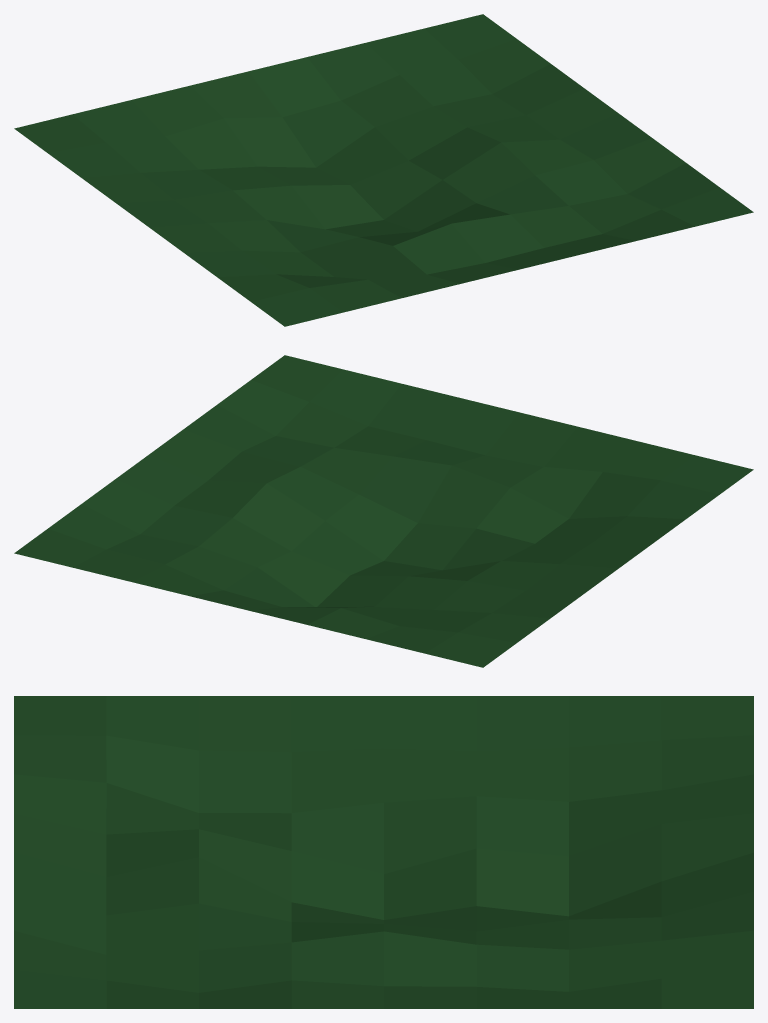
File: Terrain_3_Dark_Green.fbx
3 renders of one model, top to bottom at view 1: azimuth 30°, elevation 25°; view 2: azimuth 150°, elevation 25°; view 3: azimuth 270°, elevation 25°, orthographic. The views are drawn at different scales.
Parts seen in each view (by area): view 1: Terrain_3_Dark_Green; view 2: Terrain_3_Dark_Green; view 3: Terrain_3_Dark_Green.
Boxes of the visible parts, x1=… form: Terrain_3_Dark_Green: x1=14, y1=14, x2=753, y2=326; Terrain_3_Dark_Green: x1=14, y1=355, x2=753, y2=667; Terrain_3_Dark_Green: x1=14, y1=696, x2=753, y2=1008.
Size of the model in its own units: 2000 by 201 by 2000.
